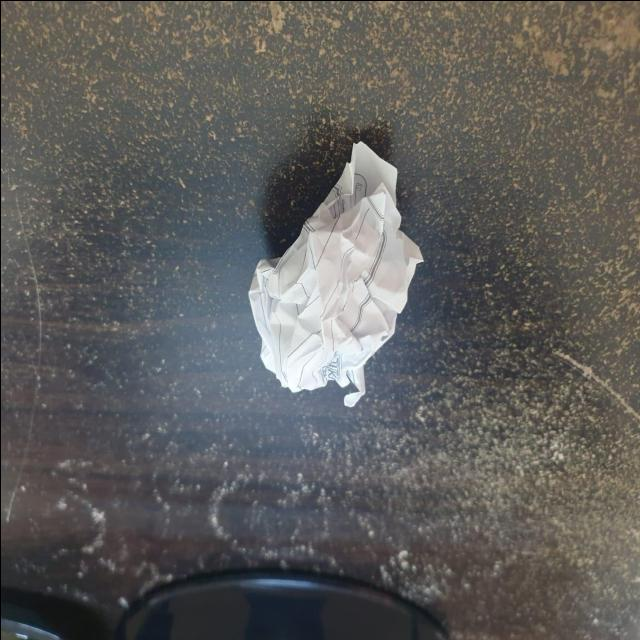kertas: (245, 135, 436, 404)
